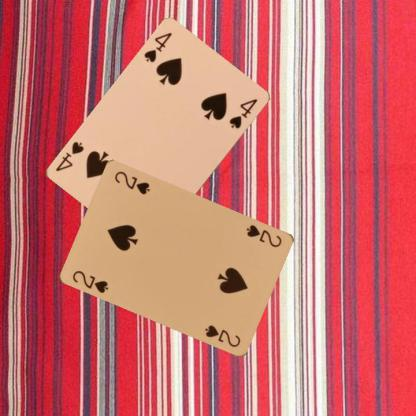2s: (70, 268, 110, 295), (244, 222, 284, 248)
4s: (141, 30, 173, 65)
